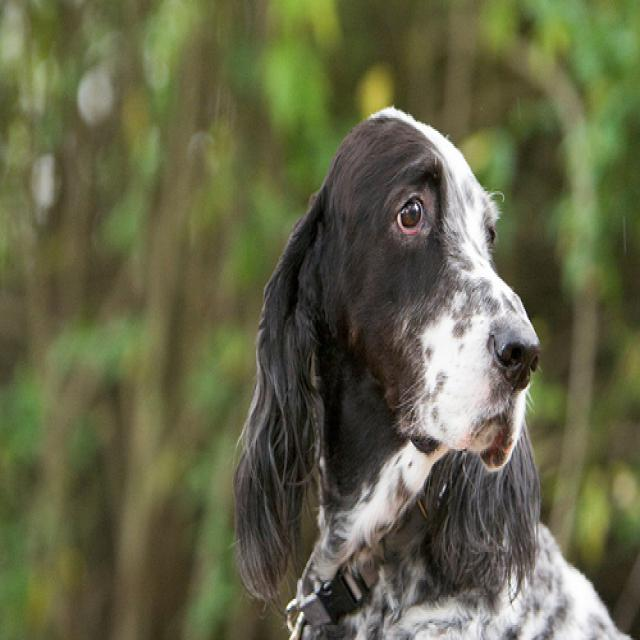dog-english_setter: (224, 84, 636, 636)
